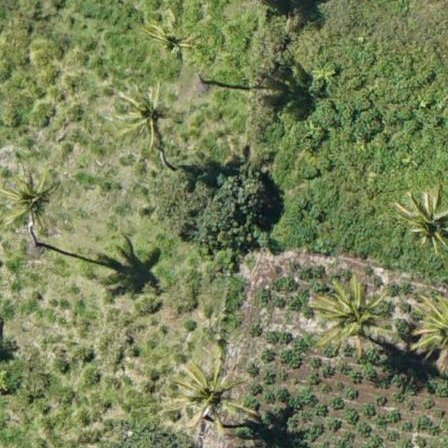palm_tree: (313, 272, 387, 351), (173, 355, 243, 430), (111, 79, 177, 147), (1, 168, 64, 236), (397, 191, 448, 254), (141, 15, 197, 64)
